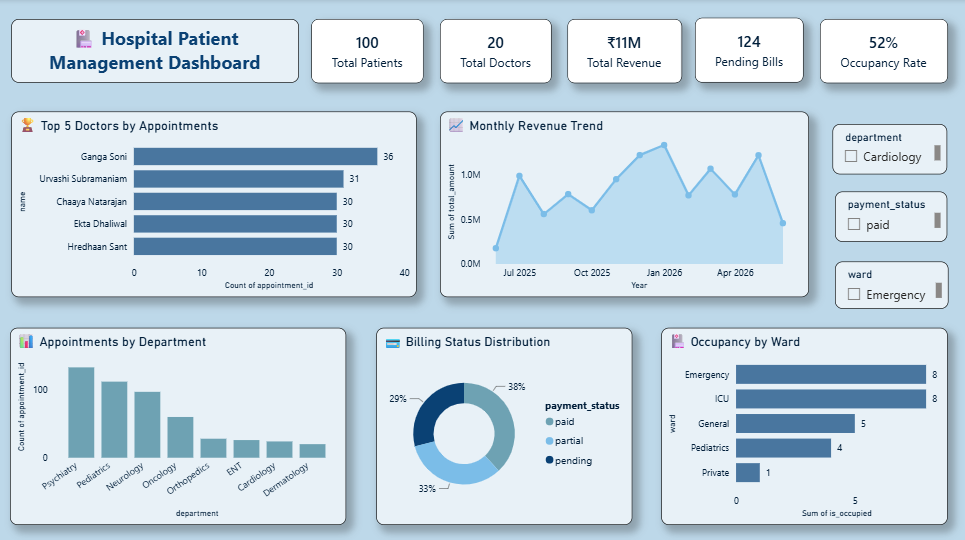

The page's visual inventory and layout, read from the dashboard file:
{"tool":"powerbi","page":{"name":"Page 1","canvas":[1280,720],"ordinal":0},"visuals":[{"type":"cardVisual","fields":{"Data":["admissions.Total Patients"]},"box":[410.2,26.5,148.4,84.5],"z":0},{"type":"cardVisual","fields":{"Data":["admissions.Total Doctors"]},"box":[580.3,26.5,147.2,84.5],"z":1000},{"type":"cardVisual","fields":{"Data":["admissions.Total Revenue Display"]},"box":[748,26.5,150.8,84.5],"z":2000},{"type":"cardVisual","fields":{"Data":["admissions.Occupancy Rate"]},"box":[1081,26.5,168.9,84.5],"z":3000},{"type":"cardVisual","fields":{"Data":["admissions.Pending Bills"]},"box":[916.9,25.3,143.6,85.7],"z":4000},{"type":"clusteredBarChart","title":"🏆 Top 5 Doctors by Appointments","fields":{"Category":["doctors.name"],"Y":["CountNonNull(appointments.appointment_id)"]},"box":[14.5,148.4,534.5,244.9],"z":5000},{"type":"areaChart","title":"📈 Monthly Revenue Trend","fields":{"Category":["billing.billed_on.Variation.Date Hierarchy.Year","billing.billed_on.Variation.Date Hierarchy.Month"],"Y":["Sum(billing.total_amount)"]},"box":[580.3,148.4,486.2,244.9],"z":6000},{"type":"donutChart","title":"💳 Billing Status Distribution","fields":{"Category":["billing.payment_status"],"Y":["CountNonNull(billing.bill_id)"]},"box":[496,433.4,337.8,260.4],"z":7000},{"type":"clusteredBarChart","title":"🏥 Occupancy by Ward","fields":{"Category":["beds.ward"],"Y":["Sum(beds.is_occupied)"]},"box":[871.7,433.4,377.3,260.4],"z":8000},{"type":"columnChart","title":"📊 Appointments by Department","fields":{"Category":["doctors.department"],"Y":["CountNonNull(appointments.appointment_id)"]},"box":[13.2,433.4,443.3,260.4],"z":9000},{"type":"textbox","box":[14.8,26.4,379,84],"z":10000},{"type":"slicer","fields":{"Values":["doctors.department"]},"box":[1097.9,164.1,150.8,66.4],"z":11000},{"type":"slicer","fields":{"Values":["billing.payment_status"]},"box":[1100.3,254.6,148.4,66.4],"z":12000},{"type":"slicer","fields":{"Values":["beds.ward"]},"box":[1100.7,346,149.9,62.6],"z":13000}]}

Visuals, with their boxes in screenshot pixels (x1, y1, x2, y2), scaled from the page's 1280x720 canvas onto the 965x540 screenshot:
cardVisual - admissions.Total Patients: bbox=[309, 20, 421, 83]
cardVisual - admissions.Total Doctors: bbox=[437, 20, 548, 83]
cardVisual - admissions.Total Revenue Display: bbox=[564, 20, 678, 83]
cardVisual - admissions.Occupancy Rate: bbox=[815, 20, 942, 83]
cardVisual - admissions.Pending Bills: bbox=[691, 19, 800, 83]
"🏆 Top 5 Doctors by Appointments" clusteredBarChart: bbox=[11, 111, 414, 295]
"📈 Monthly Revenue Trend" areaChart: bbox=[437, 111, 804, 295]
"💳 Billing Status Distribution" donutChart: bbox=[374, 325, 629, 520]
"🏥 Occupancy by Ward" clusteredBarChart: bbox=[657, 325, 942, 520]
"📊 Appointments by Department" columnChart: bbox=[10, 325, 344, 520]
textbox: bbox=[11, 20, 297, 83]
slicer - doctors.department: bbox=[828, 123, 941, 173]
slicer - billing.payment_status: bbox=[830, 191, 941, 241]
slicer - beds.ward: bbox=[830, 260, 943, 306]
